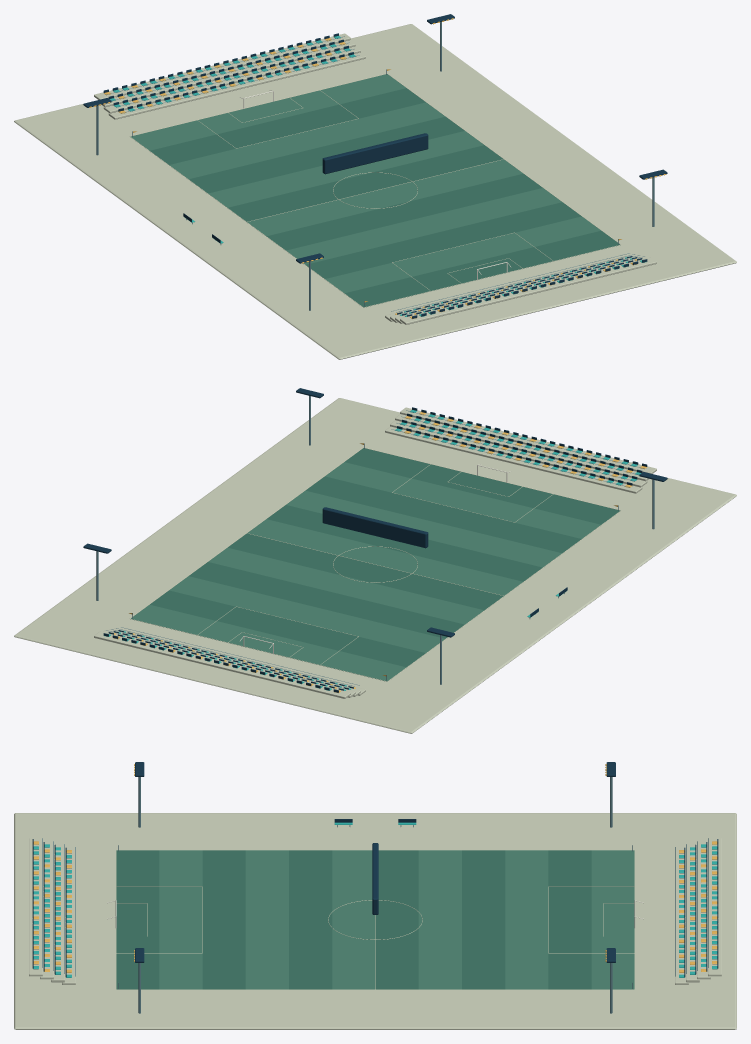
Rendered from soccer-stadium-v3.glb.
The picture shows the model from 3 angles, top to bottom: view 1: azimuth 30°, elevation 25°; view 2: azimuth 150°, elevation 25°; view 3: azimuth 270°, elevation 25°; orthographic projection. The views are drawn at different scales.
Parts seen in each view (by area): view 1: Venue, SoccerPitch, StadiumBoard; view 2: Venue, SoccerPitch, StadiumBoard; view 3: Venue, SoccerPitch, StadiumBoard.
Part boxes in pixels (box(x1,y1,x2,y2)): Venue: box(14, 14, 736, 359); SoccerPitch: box(130, 73, 620, 307); StadiumBoard: box(322, 133, 428, 174); Venue: box(14, 388, 736, 733); SoccerPitch: box(130, 447, 620, 681); StadiumBoard: box(322, 507, 428, 548); Venue: box(14, 762, 736, 1029); SoccerPitch: box(116, 850, 634, 989); StadiumBoard: box(372, 843, 378, 914).
Size of the model in its own units: 113 by 14.81 by 159.
